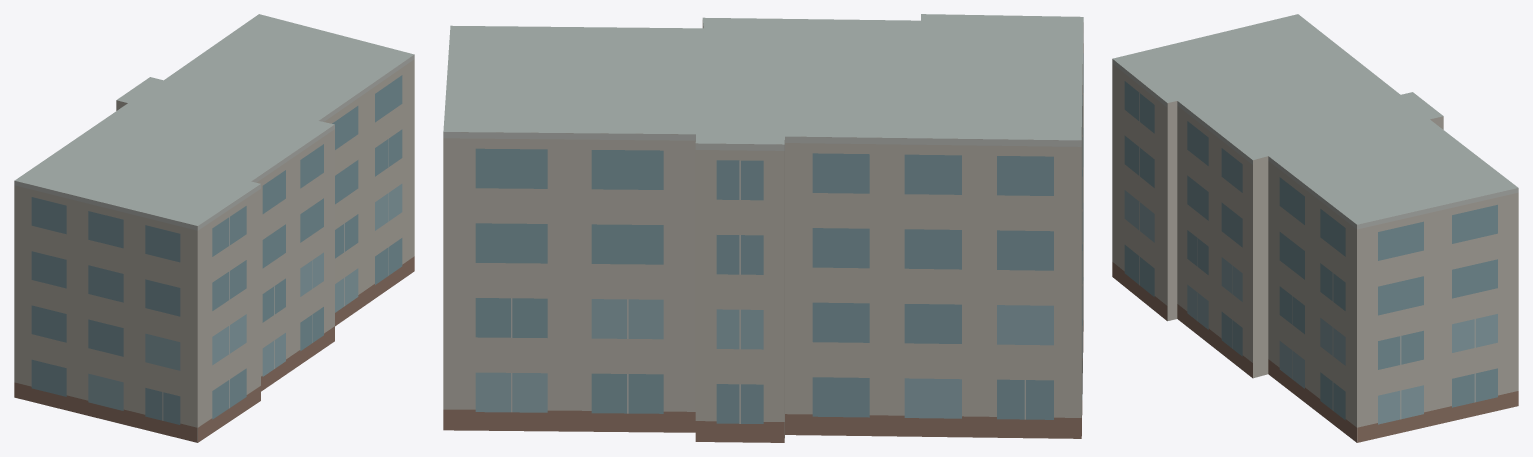
The model's file is survey-upis-32590738.glb.
3 renders of one model, left to right at view 1: azimuth 30°, elevation 25°; view 2: azimuth 150°, elevation 25°; view 3: azimuth 270°, elevation 25°, orthographic. The views are drawn at different scales.
Visible parts, largest first — view 1: survey-upis-32590738.tmp; view 2: survey-upis-32590738.tmp; view 3: survey-upis-32590738.tmp.
Part boxes in pixels (left/top/right/bottom): survey-upis-32590738.tmp: left=14, top=14, right=414, bottom=442; survey-upis-32590738.tmp: left=443, top=14, right=1083, bottom=442; survey-upis-32590738.tmp: left=1112, top=14, right=1518, bottom=442.
Bounding box in the file's own units: 23.41 × 11.29 × 19.07.
